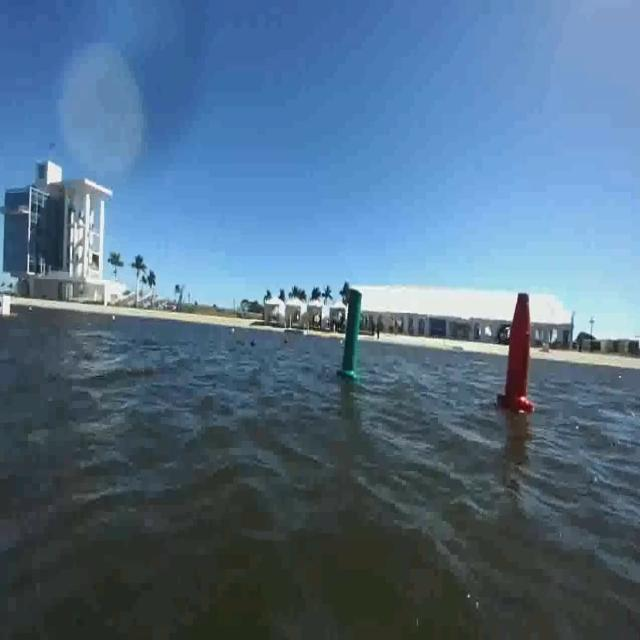green-column-buoy: (339, 289, 365, 382)
red-column-buoy: (498, 291, 537, 414)
